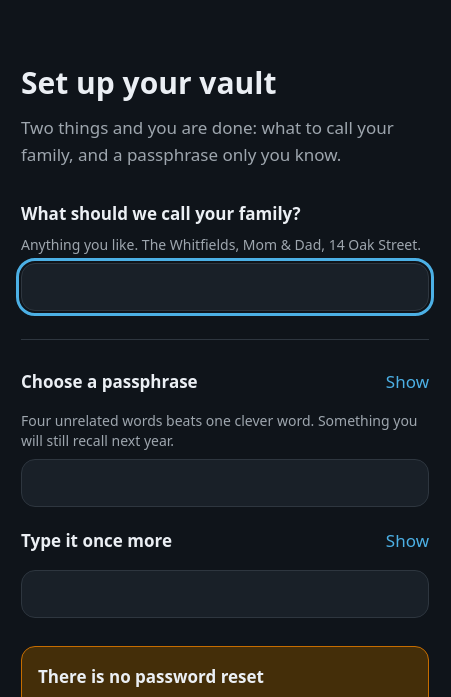
Test: setting up a vault › reaches the vault only after the recovery challenge is answered
Later steps or results of the test are not shown.
In the field labelled "What should we call your family?": (225, 287) [21,263,429,311], type "Whitfield"
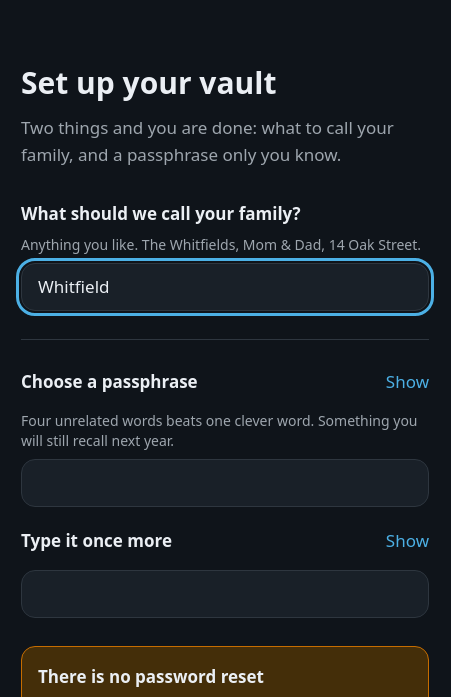
In the password field named "Choose a passphrase": (225, 483) [21,459,429,507], type "the right passphrase"
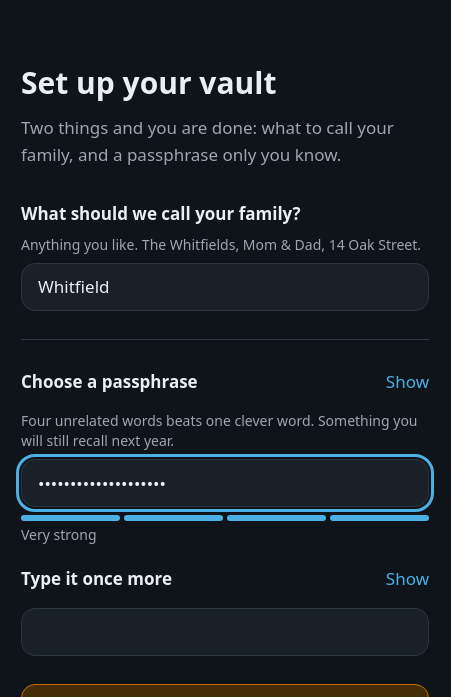
In the password field named "Type it once more": (225, 632) [21,608,429,656], type "the right passphrase"
(page scrolled)
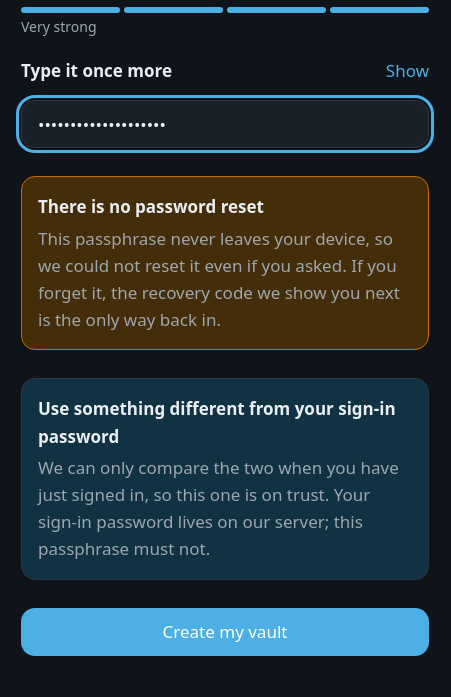
Click the button "Create my vault": (225, 632) [21,608,429,656]
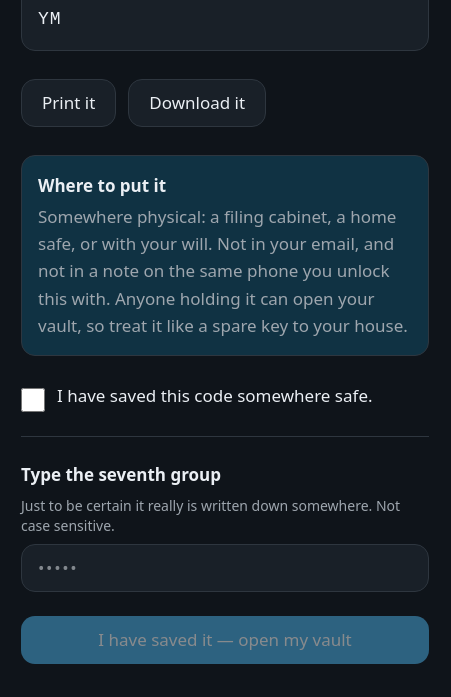
Now the button "I have saved it — open my vault" is disabled, box [21,616,429,664]
